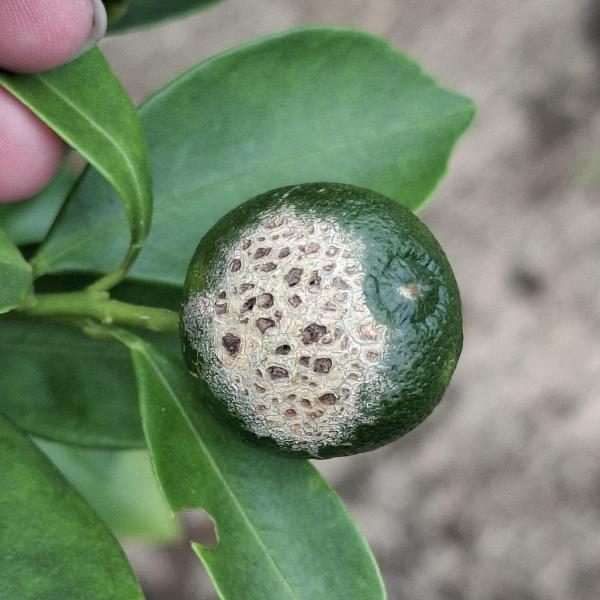Scab: (178, 167, 465, 469)
